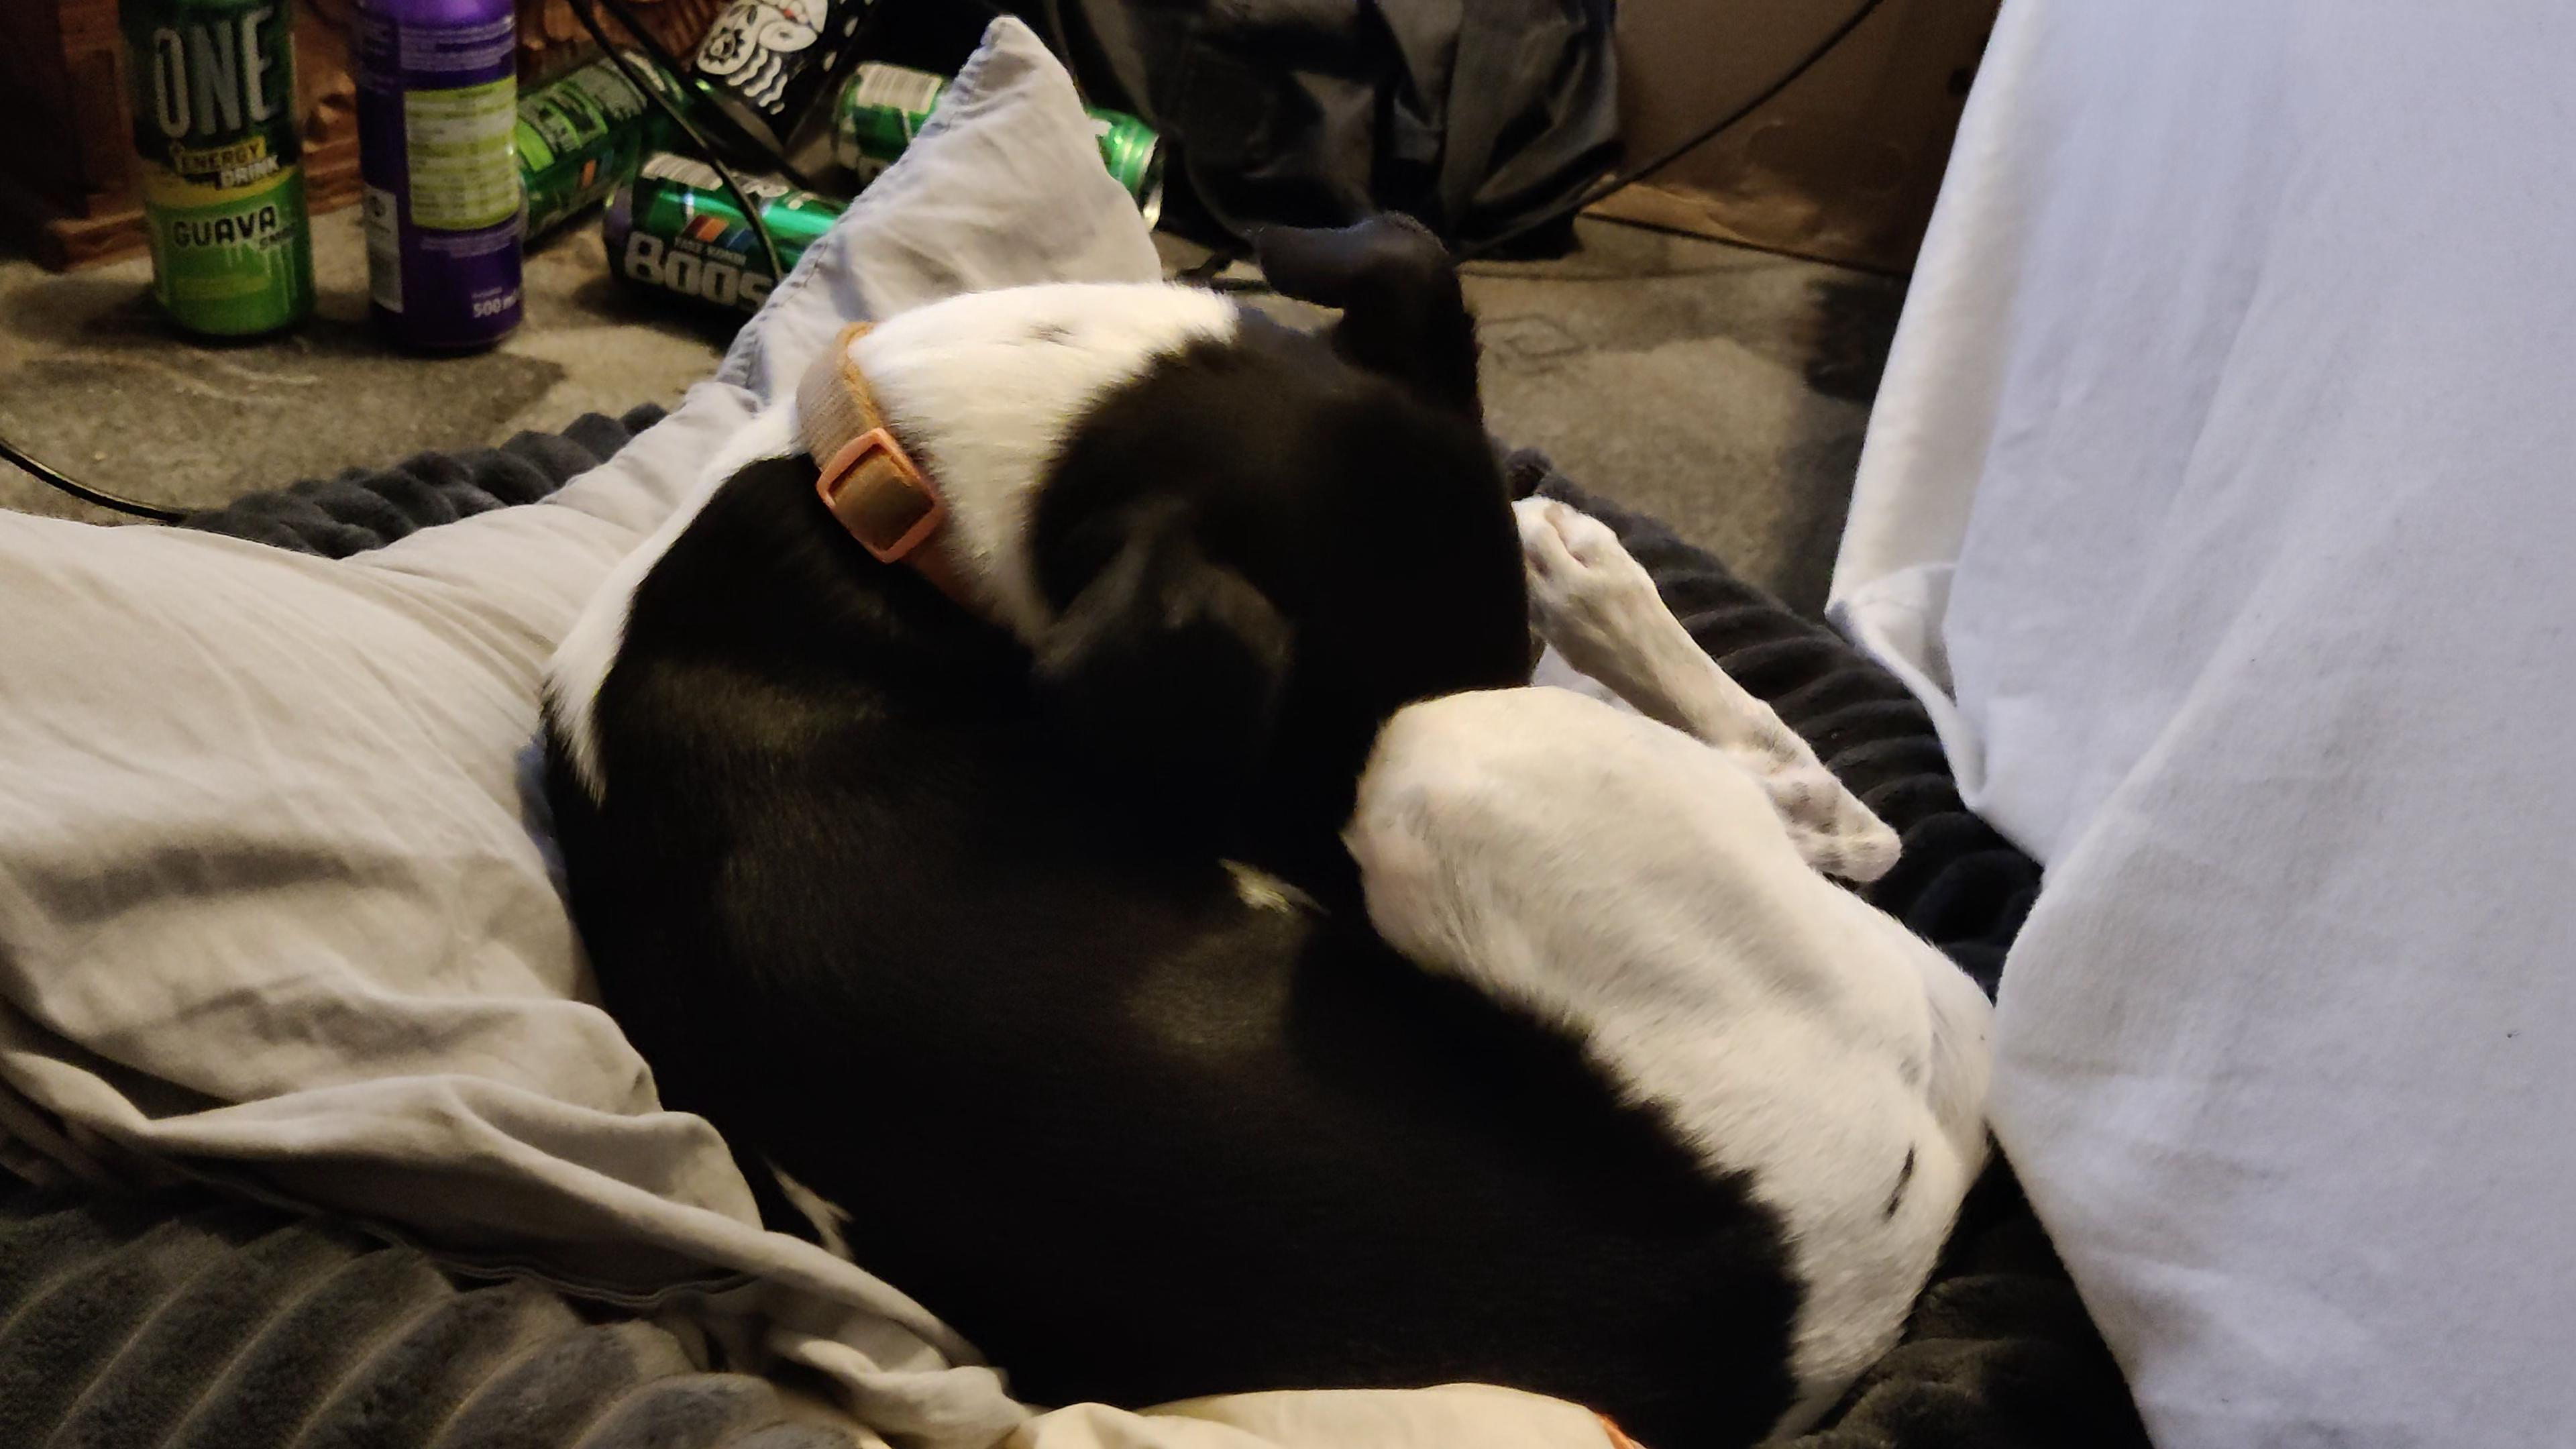Dog: (506, 198, 2005, 1449)
